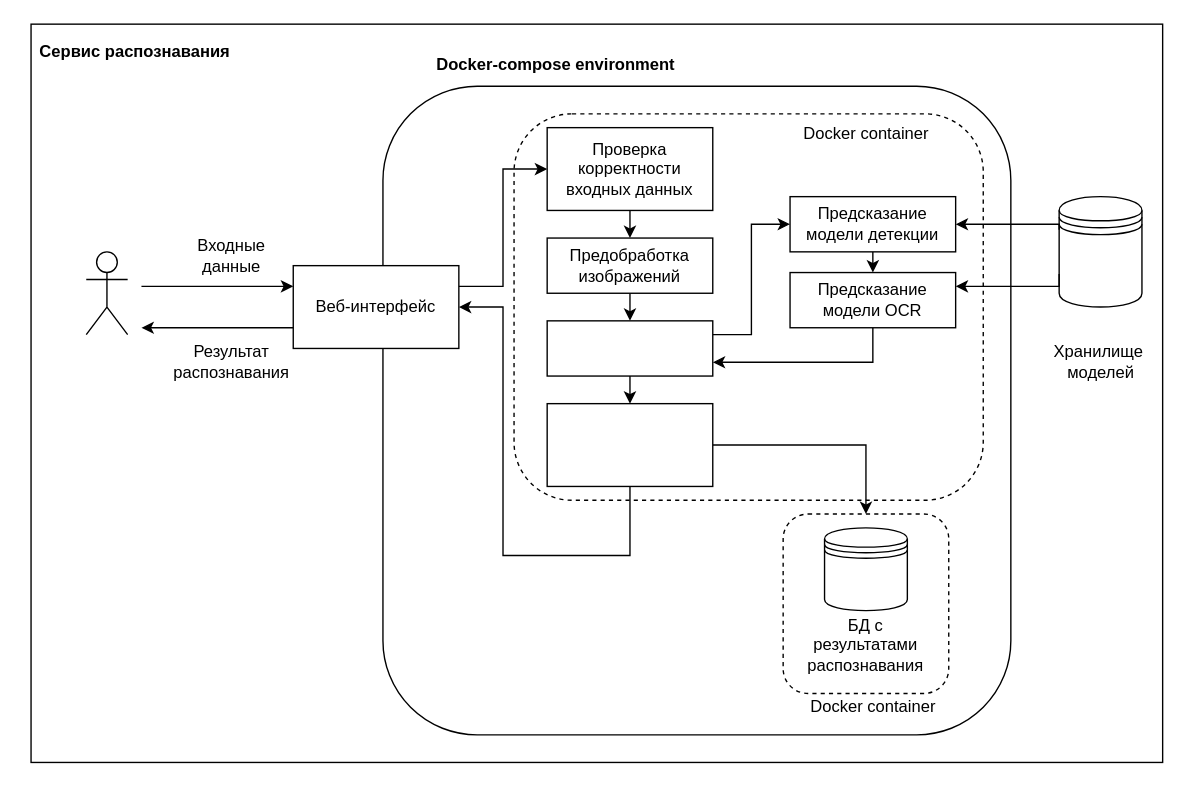
Some shapes in this 1187 by 787 pixel diagram are drawn without their labels. Here are the shapes that lost their labels. From the top down, the centre of each, then its label:
At point 106,292: "Пользователь".
At point 629,347: "Инференс моделей".
At point 629,444: "Обработка результатов распознавания".
